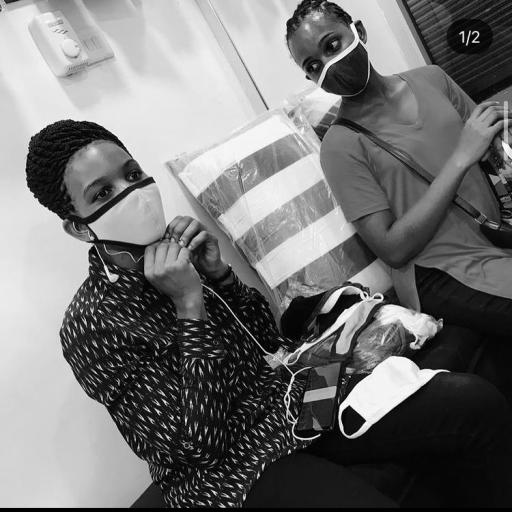mask: (68, 144, 170, 244), (287, 20, 370, 97)
